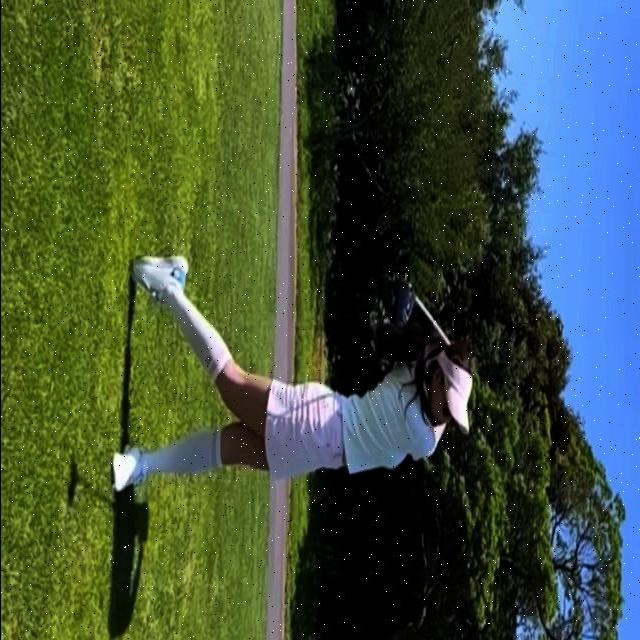golf club-handle: (383, 279, 449, 346)
golf club-head: (383, 278, 412, 332)
